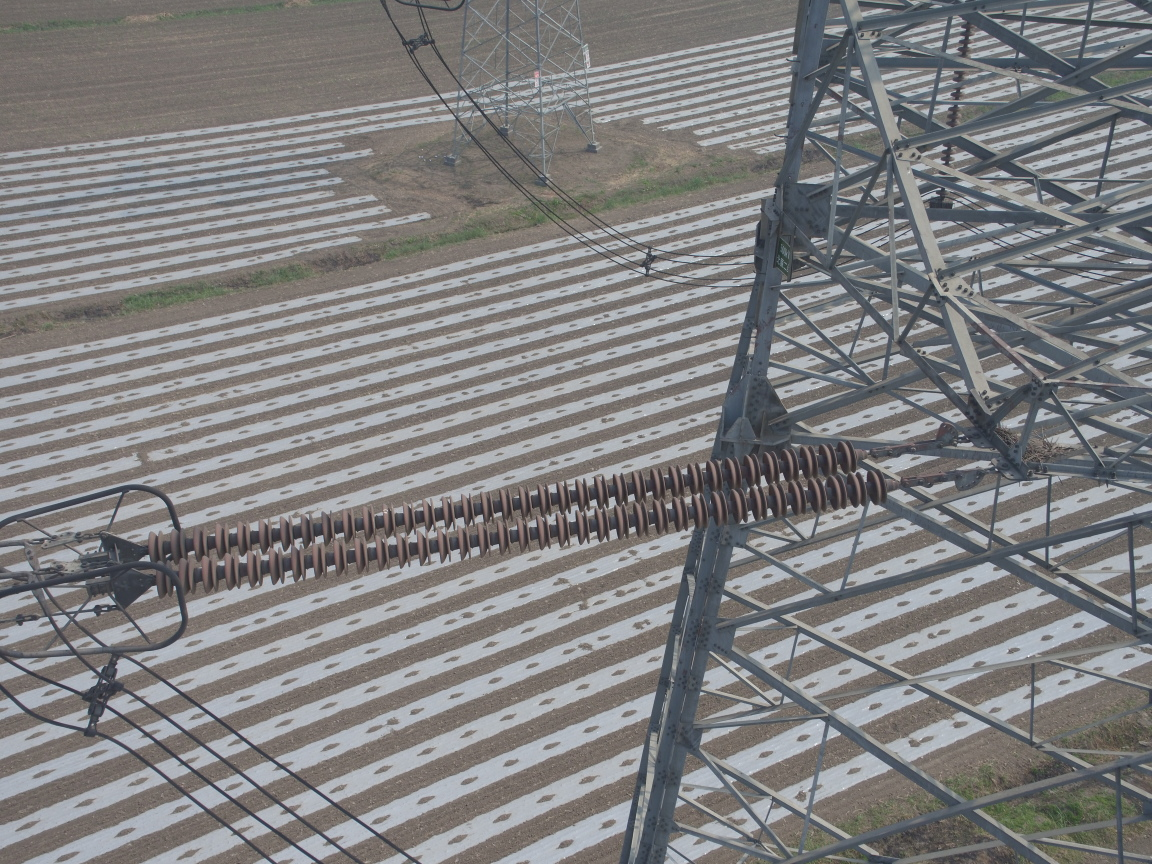insulator: (138, 434, 917, 599)
